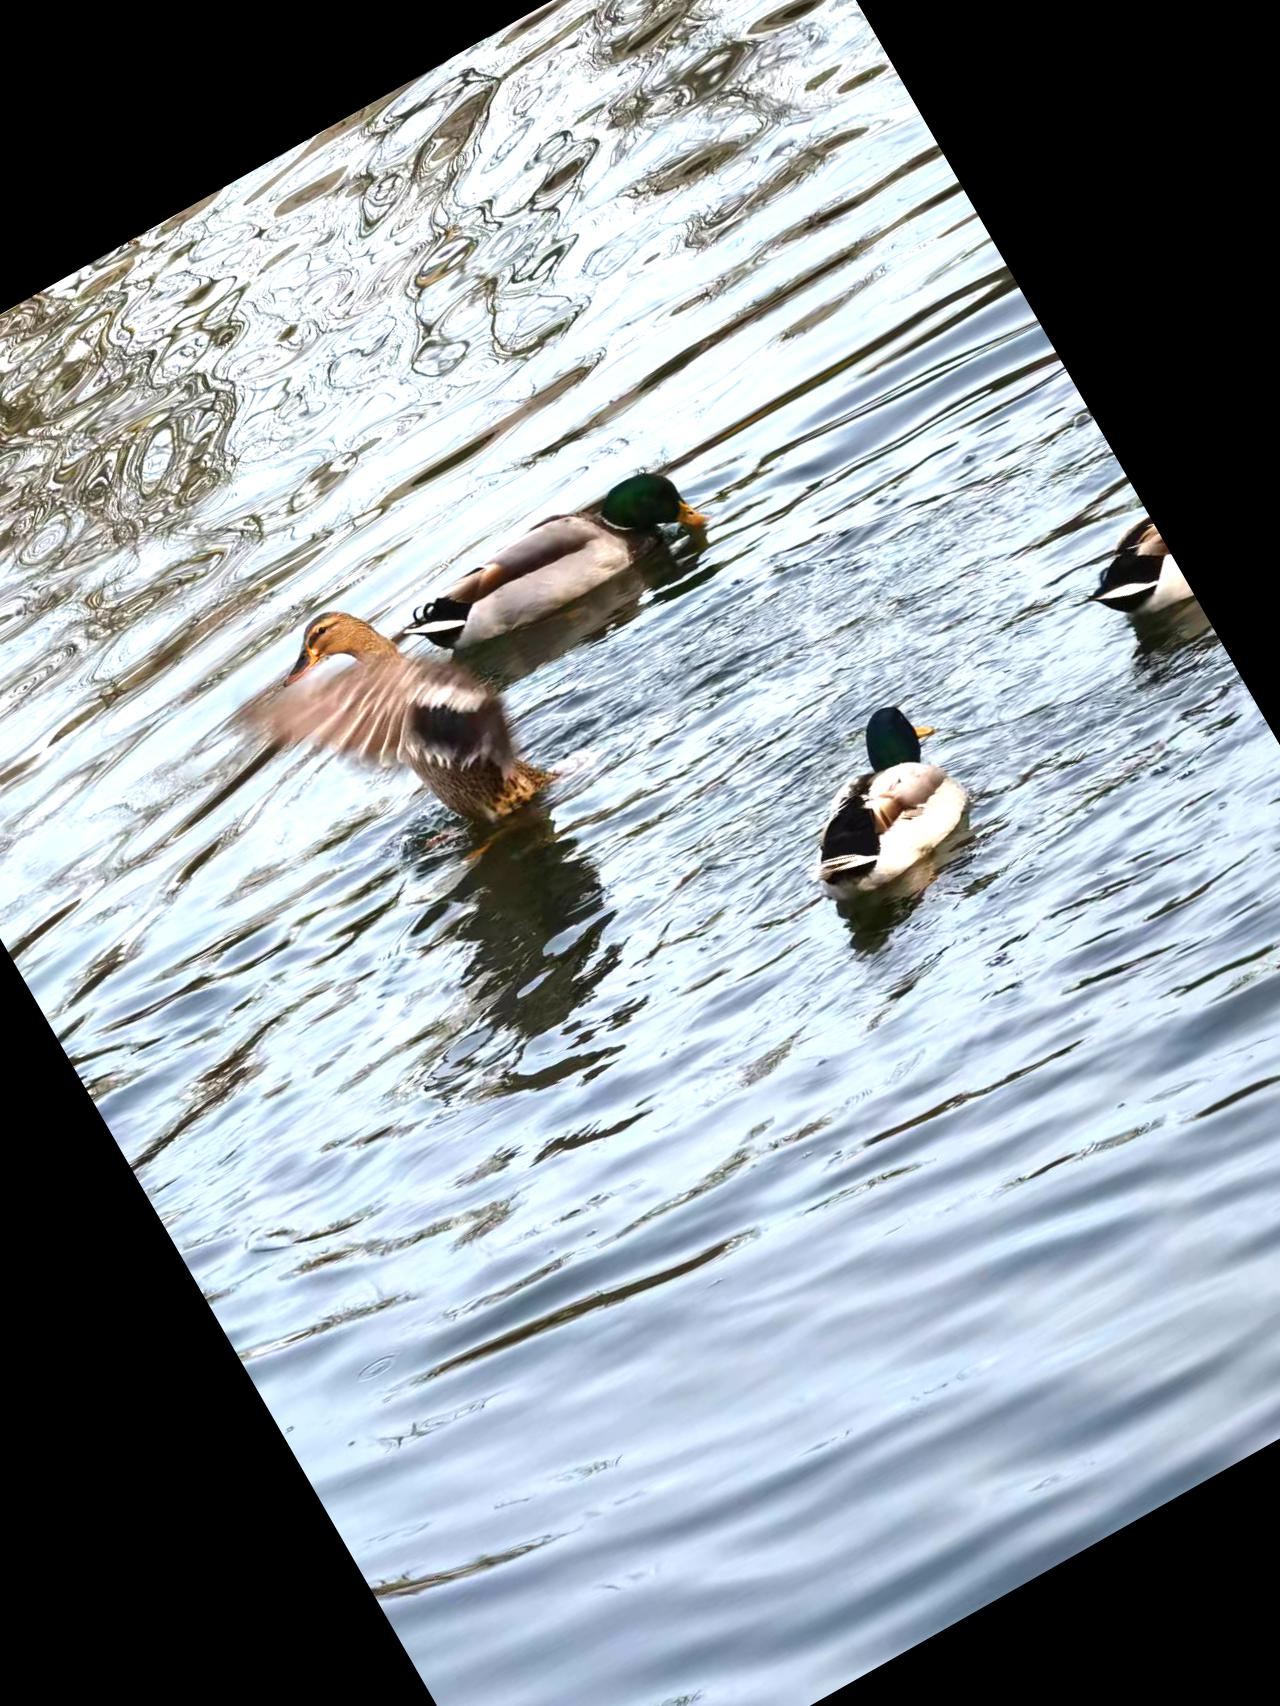duck: (199, 540, 592, 954), (372, 406, 742, 688), (739, 675, 1014, 934), (1046, 518, 1186, 643)
